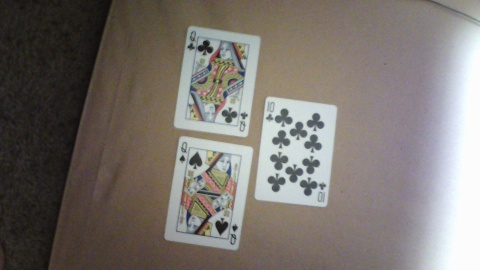queen: (165, 135, 253, 251), (173, 24, 260, 137)
ten: (255, 96, 337, 208)
